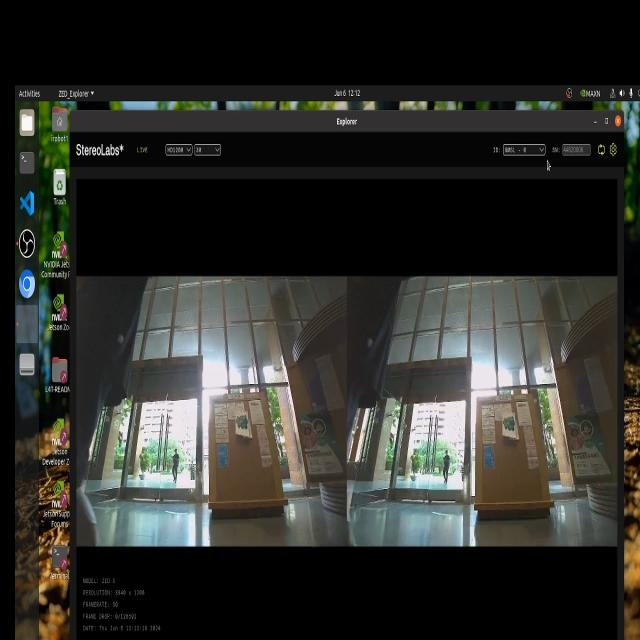green: (233, 401, 248, 429), (502, 412, 514, 436)
